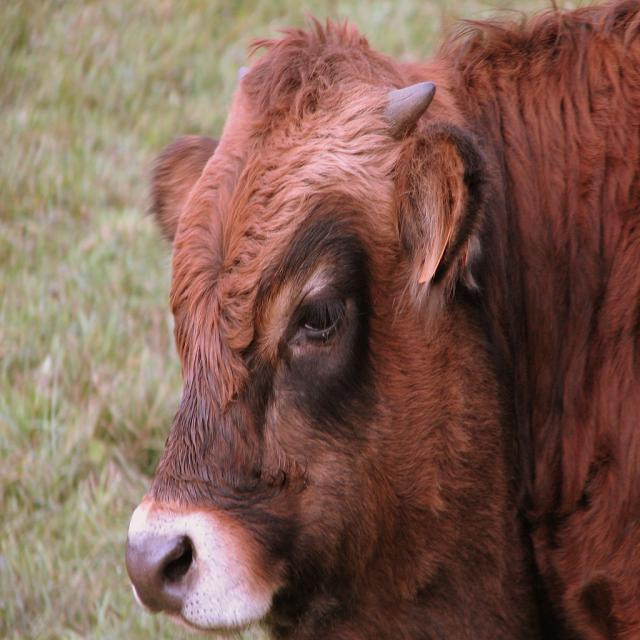Cattle: (123, 0, 640, 640)
